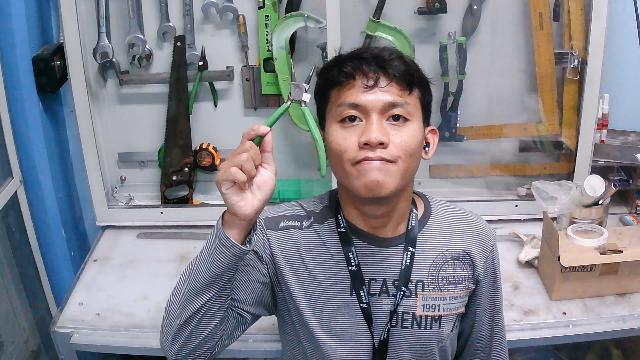tang_cucut_lancip_1: (240, 58, 336, 185)
